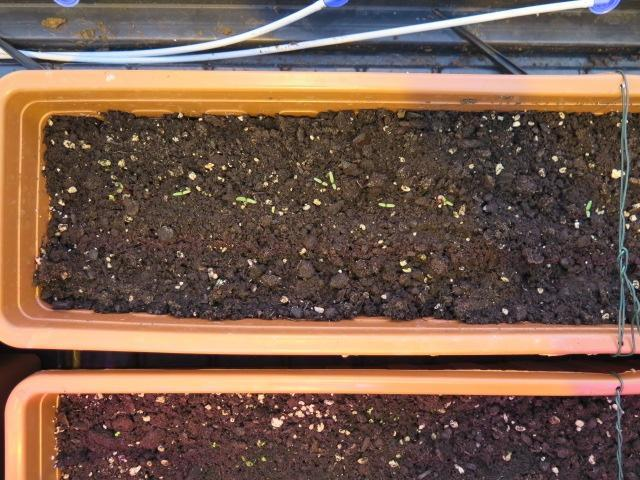crop: (578, 195, 596, 219), (228, 192, 259, 204), (432, 192, 455, 208), (372, 198, 399, 210), (166, 186, 198, 196)
